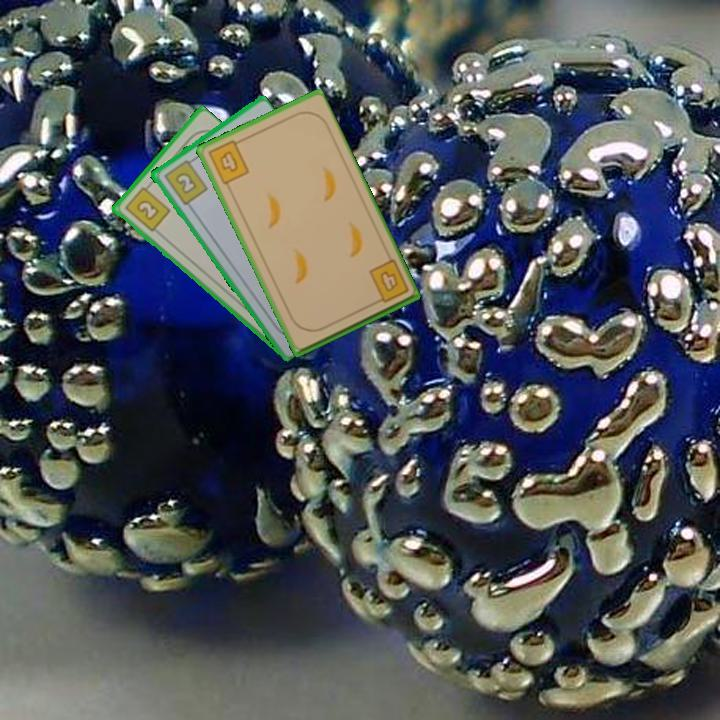2b: (121, 180, 173, 235), (160, 154, 210, 208)
4b: (204, 135, 252, 187), (365, 256, 412, 307)
